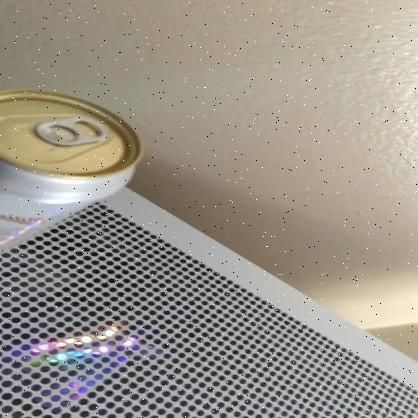can: (0, 93, 144, 257)
